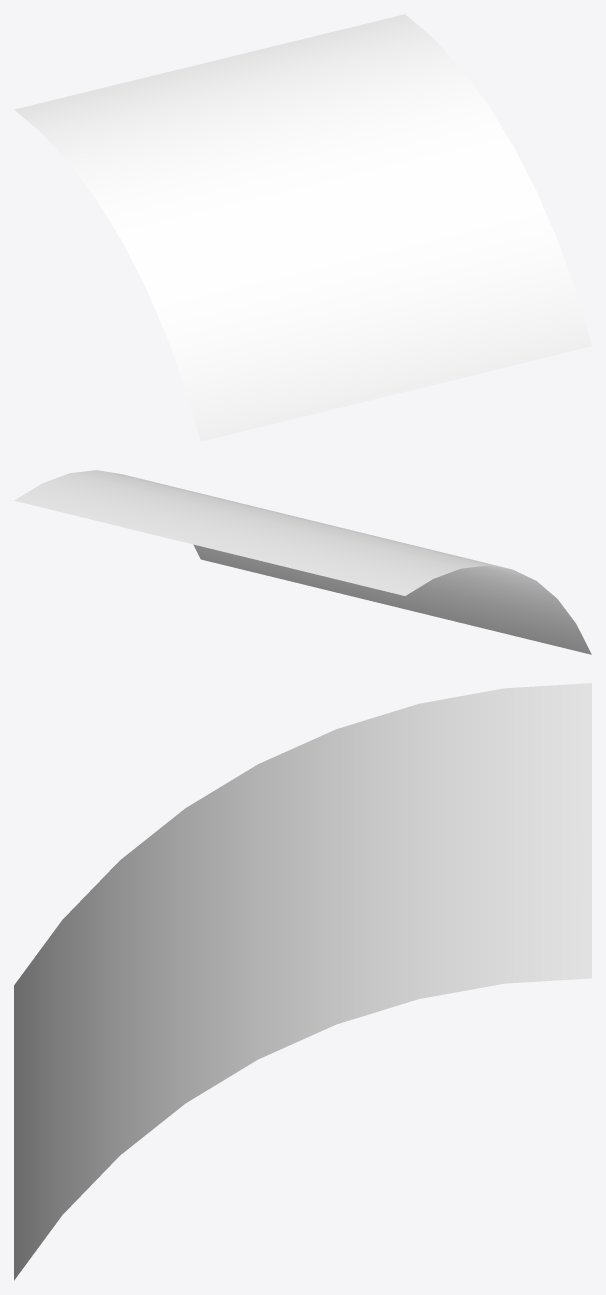
Rendered from grd_F_0.dae.
3 views of the same model, one above another, from view 1: azimuth 30°, elevation 25°; view 2: azimuth 150°, elevation 25°; view 3: azimuth 270°, elevation 25° (orthographic). The views are drawn at different scales.
Parts seen in each view (by area): view 1: grd_F_0; view 2: grd_F_0; view 3: grd_F_0.
Part boxes in pixels (left/top/right/bottom): grd_F_0: left=14, top=14, right=591, bottom=441; grd_F_0: left=14, top=470, right=591, bottom=654; grd_F_0: left=14, top=683, right=591, bottom=1280.
Size of the model in its own units: 512 by 244 by 423.
Materials: 1 (1 with a texture image).
